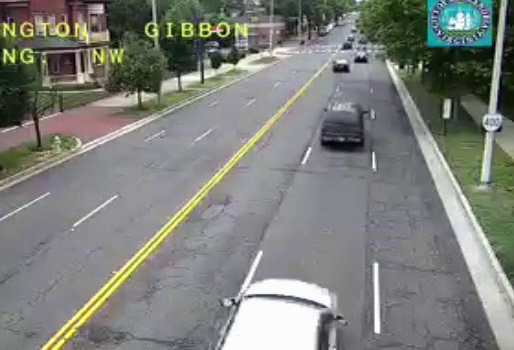car: (321, 103, 365, 146)
